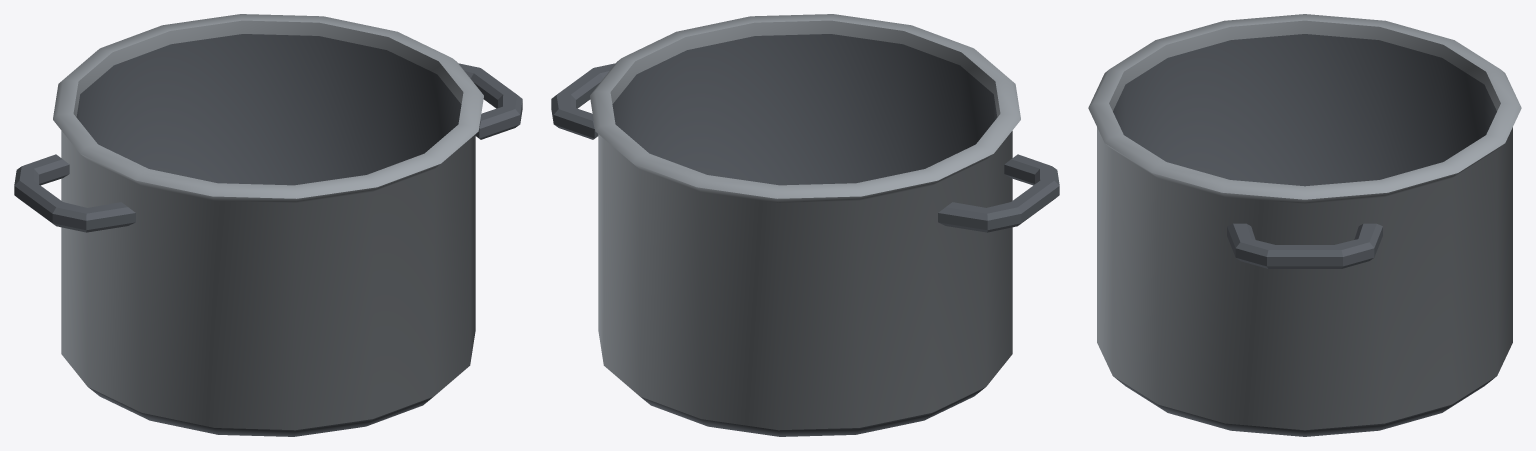
File: pot.glb
3 renders of one model, left to right at view 1: azimuth 30°, elevation 25°; view 2: azimuth 150°, elevation 25°; view 3: azimuth 270°, elevation 25°, orthographic.
Visible parts, largest first — view 1: pot; view 2: pot; view 3: pot.
Boxes of the visible parts, x1=… form: pot: x1=14, y1=14, x2=522, y2=436; pot: x1=551, y1=14, x2=1059, y2=436; pot: x1=1088, y1=14, x2=1521, y2=436.
Size of the model in its own units: 0.312 by 0.16 by 0.25.
Materials: 1 (1 with a texture image).
